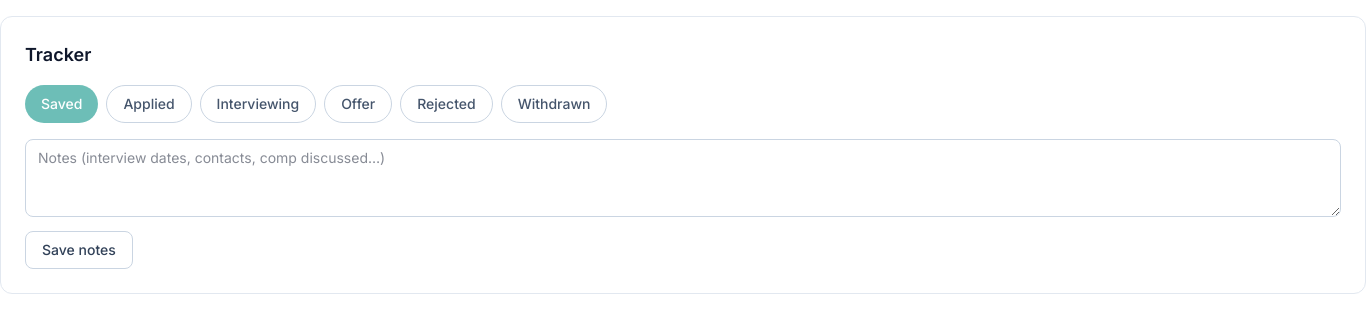
Test: StatusControls › patches a status change and refreshes
Click the button "Applied" at (149, 104), box [106,85,192,123]
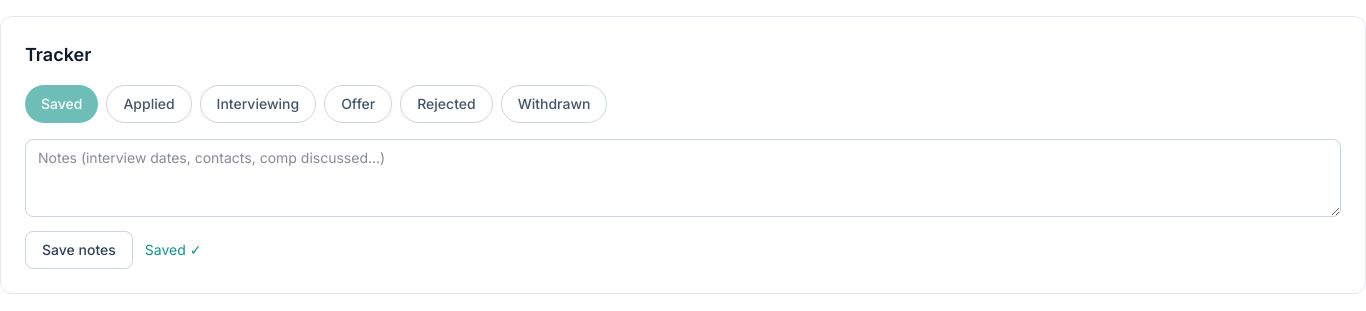
expect the text "Saved ✓" is shown: met, box [145,240,201,260]
